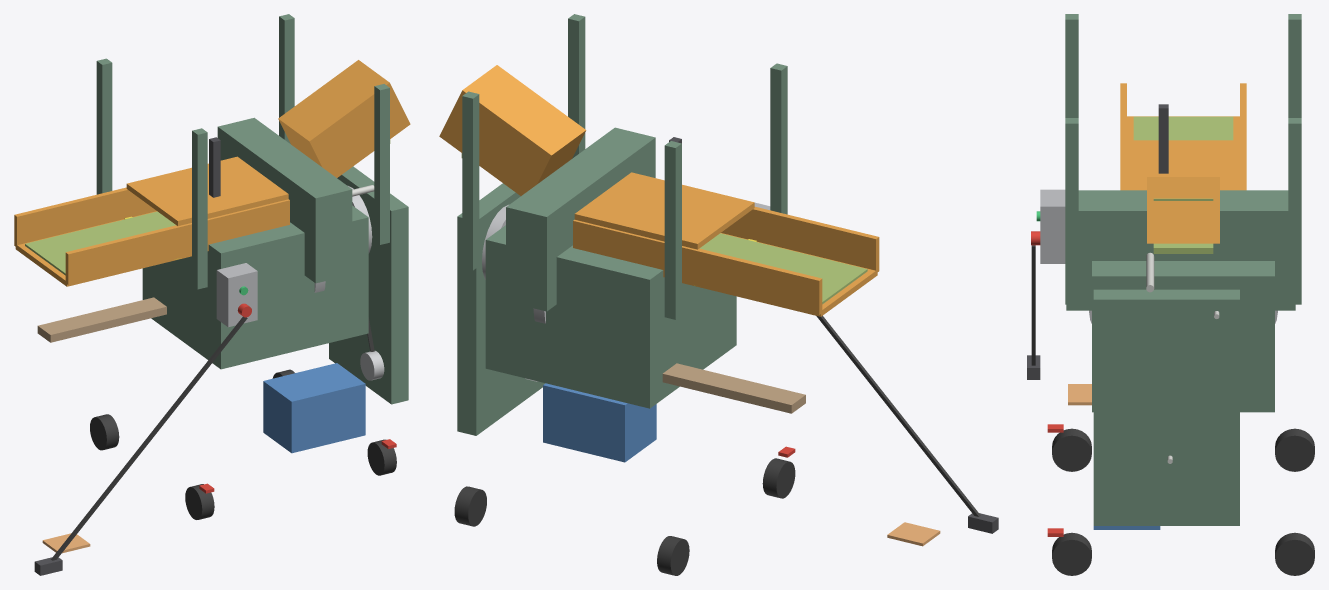
File: chaff-cutter-CRXO2OAT.glb
The picture shows the model from 3 angles, left to right: view 1: azimuth 30°, elevation 25°; view 2: azimuth 150°, elevation 25°; view 3: azimuth 270°, elevation 25°; orthographic projection. The views are drawn at different scales.
Parts seen in each view (by area): view 1: CC_frame, CC_tray, CC_cover_shell, CC_belt_guard, CC_chute, CC_motor, CC_tray_cover, RES_tray, CC_push_stick, CC_switchbox, CC_cable, CC_wheel_3 (+5 smaller); view 2: CC_frame, CC_tray, CC_cover_shell, CC_chute, CC_belt_guard, CC_tray_cover, CC_motor, RES_tray, CC_push_stick, CC_cable, CC_wheel_1, CC_wheel_4 (+2 smaller); view 3: CC_belt_guard, CC_frame, CC_cover_shell, CC_tray_cover, CC_chute, RES_tray, CC_switchbox, CC_tray, CC_wheel_3, CC_wheel_4, CC_wheel_1, CC_wheel_2 (+4 smaller).
Part boxes in pixels (x1,y1,x2,y2): CC_frame: (96, 14, 389, 369); CC_tray: (14, 187, 289, 286); CC_cover_shell: (217, 117, 352, 283); CC_belt_guard: (329, 166, 408, 404); CC_chute: (278, 60, 410, 177); CC_motor: (263, 363, 365, 453); CC_tray_cover: (126, 156, 288, 225); RES_tray: (25, 211, 175, 275); CC_push_stick: (37, 297, 166, 342); CC_switchbox: (216, 263, 257, 327); CC_cable: (51, 316, 247, 560); CC_wheel_3: (90, 414, 119, 450); CC_frame: (462, 14, 787, 408); CC_tray: (573, 206, 879, 316); CC_cover_shell: (506, 127, 655, 311); CC_chute: (439, 65, 586, 195); CC_belt_guard: (457, 183, 545, 435); CC_tray_cover: (574, 172, 754, 249); CC_motor: (543, 383, 656, 462); RES_tray: (699, 233, 867, 304); CC_push_stick: (662, 363, 805, 413); CC_cable: (816, 315, 980, 516); CC_wheel_1: (762, 458, 795, 498); CC_wheel_4: (454, 486, 486, 526); CC_belt_guard: (1093, 289, 1239, 525); CC_frame: (1065, 14, 1301, 412); CC_cover_shell: (1066, 190, 1295, 310); CC_tray_cover: (1123, 140, 1243, 190); CC_chute: (1147, 177, 1219, 243); RES_tray: (1133, 116, 1233, 140); CC_switchbox: (1040, 189, 1065, 263); CC_tray: (1120, 83, 1246, 190); CC_wheel_3: (1275, 428, 1314, 471); CC_wheel_4: (1275, 532, 1314, 575); CC_wheel_1: (1052, 428, 1091, 471); CC_wheel_2: (1052, 532, 1091, 575).
Bounding box in the file's own units: 1.71 × 1.5 × 0.865.
